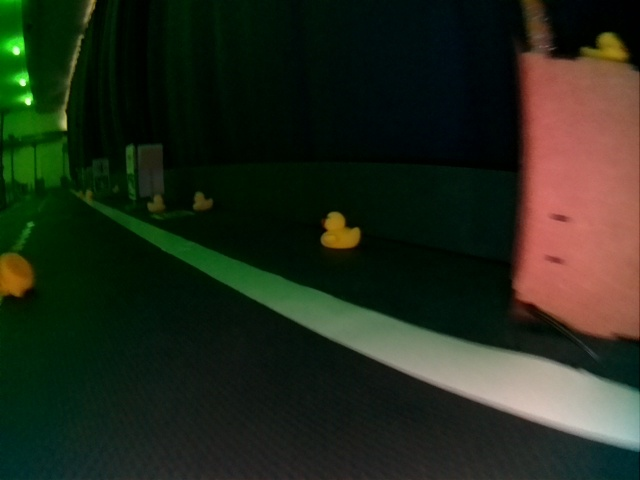Duckie: (320, 211, 361, 249), (2, 253, 32, 298), (584, 32, 627, 60), (193, 191, 213, 210), (147, 195, 165, 212)
